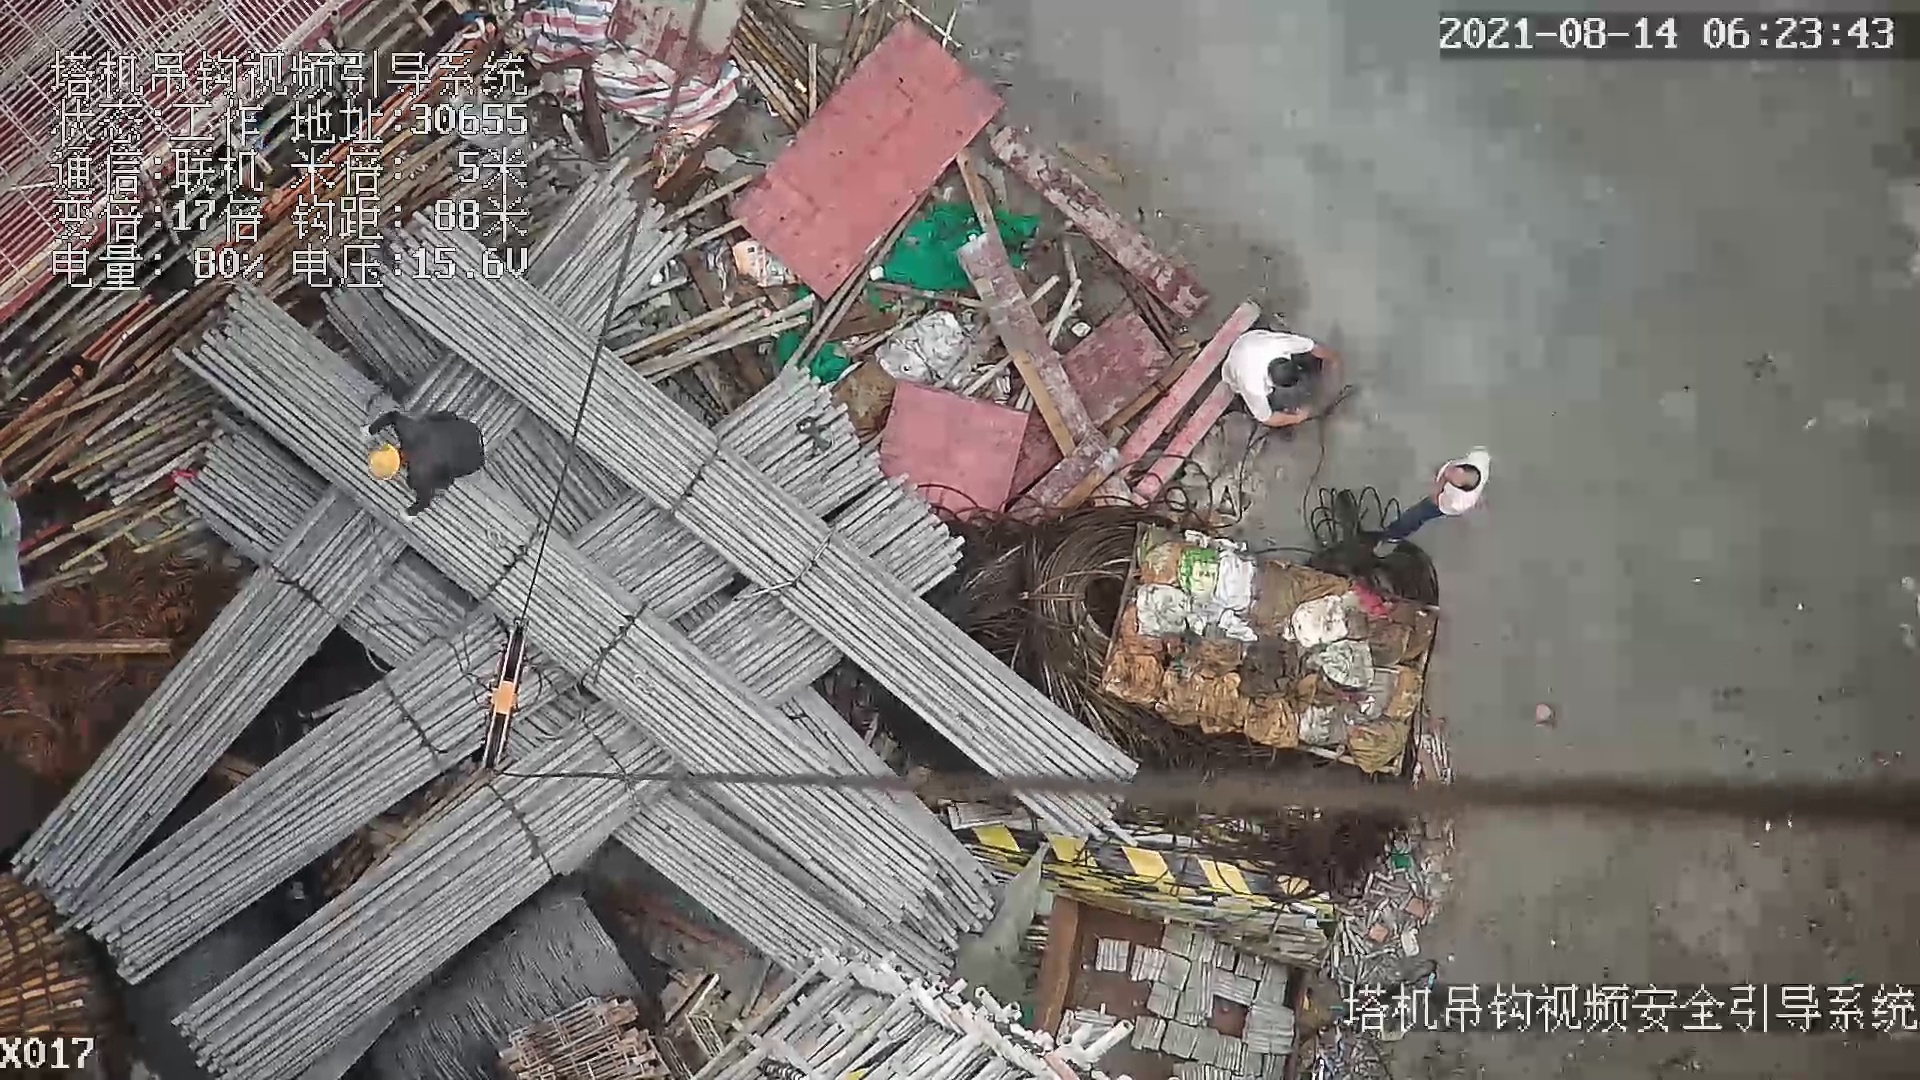helmet: (369, 444, 401, 479)
hook: (478, 610, 541, 781)
person: (1370, 445, 1497, 558), (360, 414, 491, 518), (1224, 328, 1342, 431)
rebar: (178, 281, 936, 926), (408, 280, 1138, 842), (173, 696, 685, 1080), (62, 610, 575, 988), (9, 487, 405, 914)
wood: (1, 879, 111, 1033)
